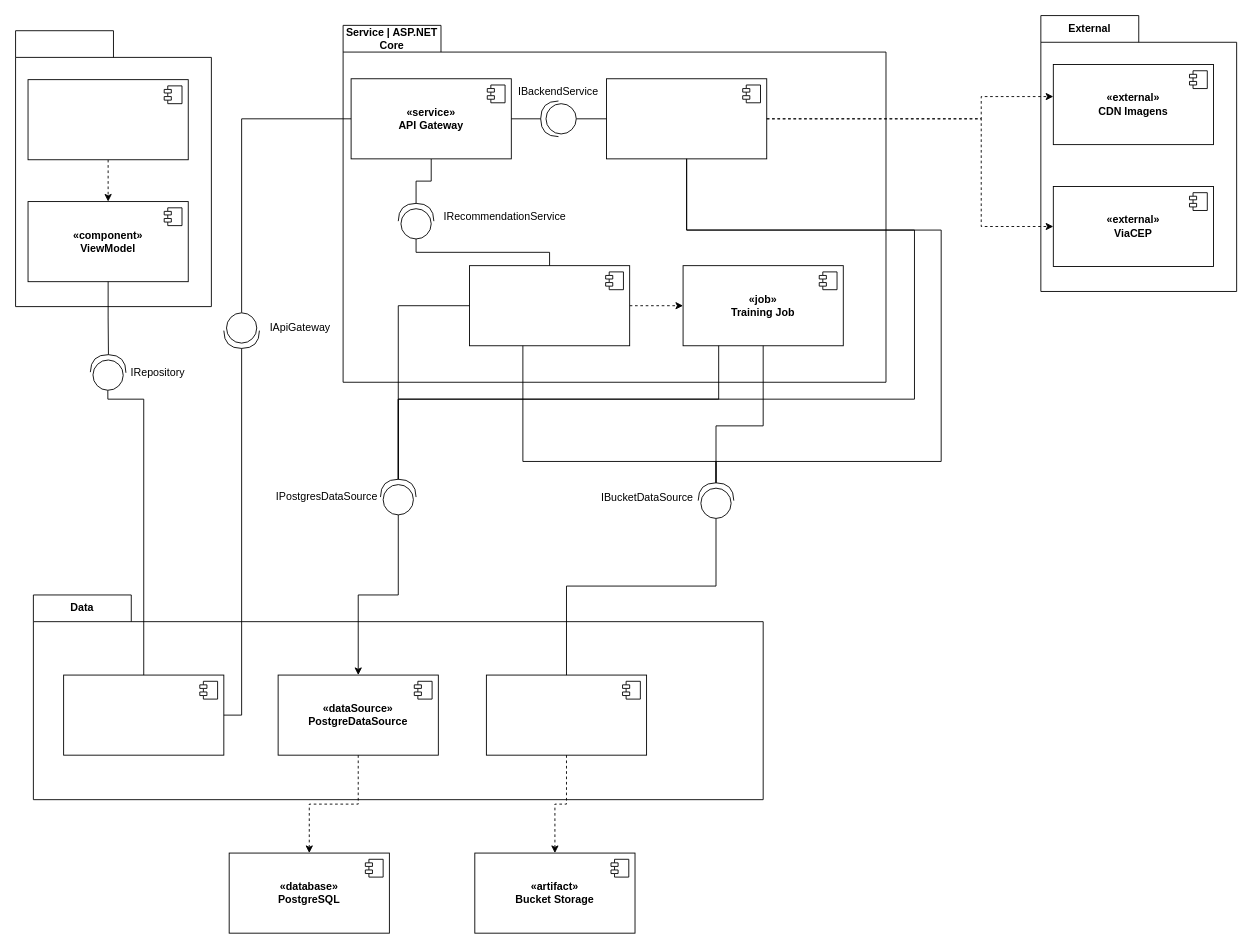
Image size: 1252x949. Some labels were removed from this diagram. The box of each missing label's shape, as (x1, y1, x2, y2) in pixels:
Presentation: (15, 30, 211, 307)
«component» Repository: (63, 674, 224, 755)
«component» View: (27, 79, 188, 160)
«dataSource» BucketDataSource: (485, 674, 647, 755)
«service» Backend Services: (606, 78, 767, 159)
«service» Recommendation Service: (469, 265, 630, 346)
